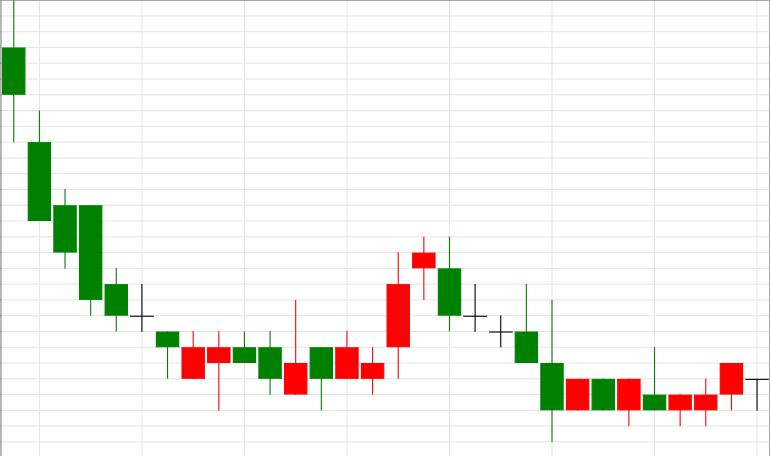evening_star_fall: (285, 236, 461, 411)
